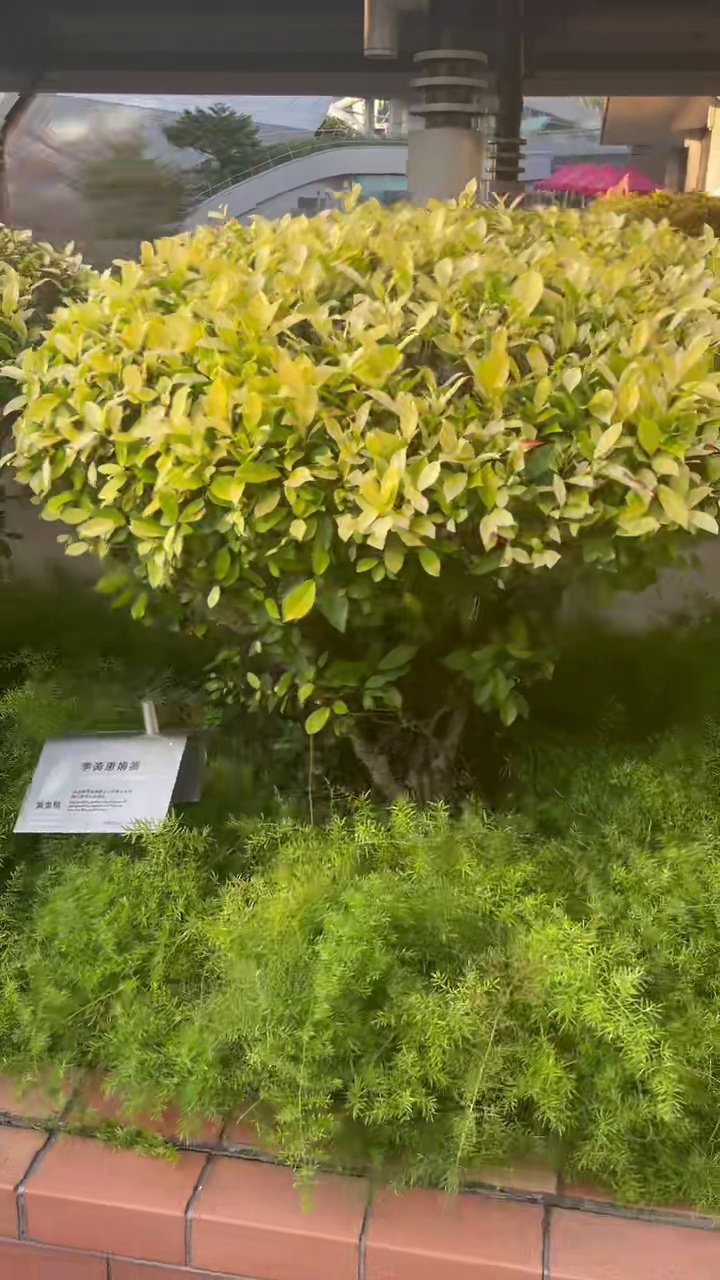Golden-leaves Fig: (11, 188, 719, 797)
